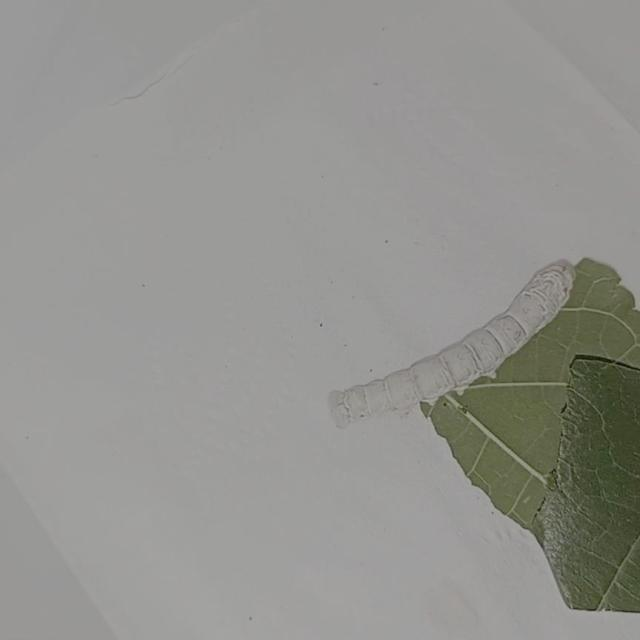Healthy: (279, 248, 593, 450)
